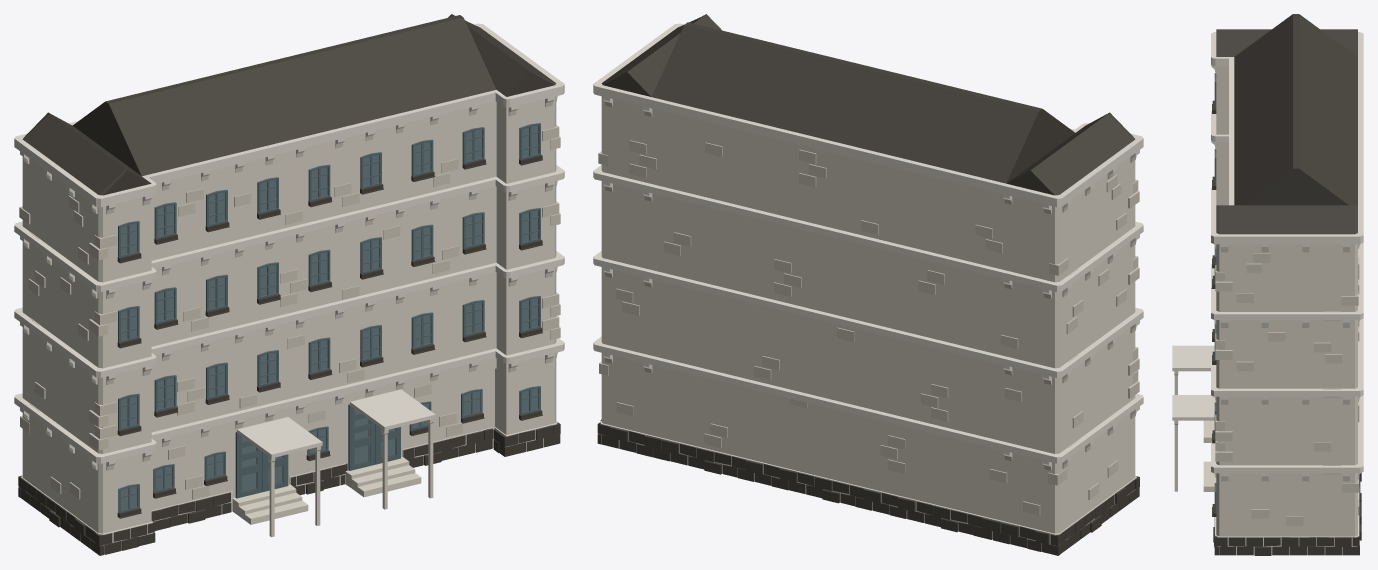
File: london-stucco-c.glb
3 views of the same model, side by side, from view 1: azimuth 30°, elevation 25°; view 2: azimuth 150°, elevation 25°; view 3: azimuth 270°, elevation 25° (orthographic). The views are drawn at different scales.
Size of the model in its own units: 6.83 by 5.68 by 2.7.
